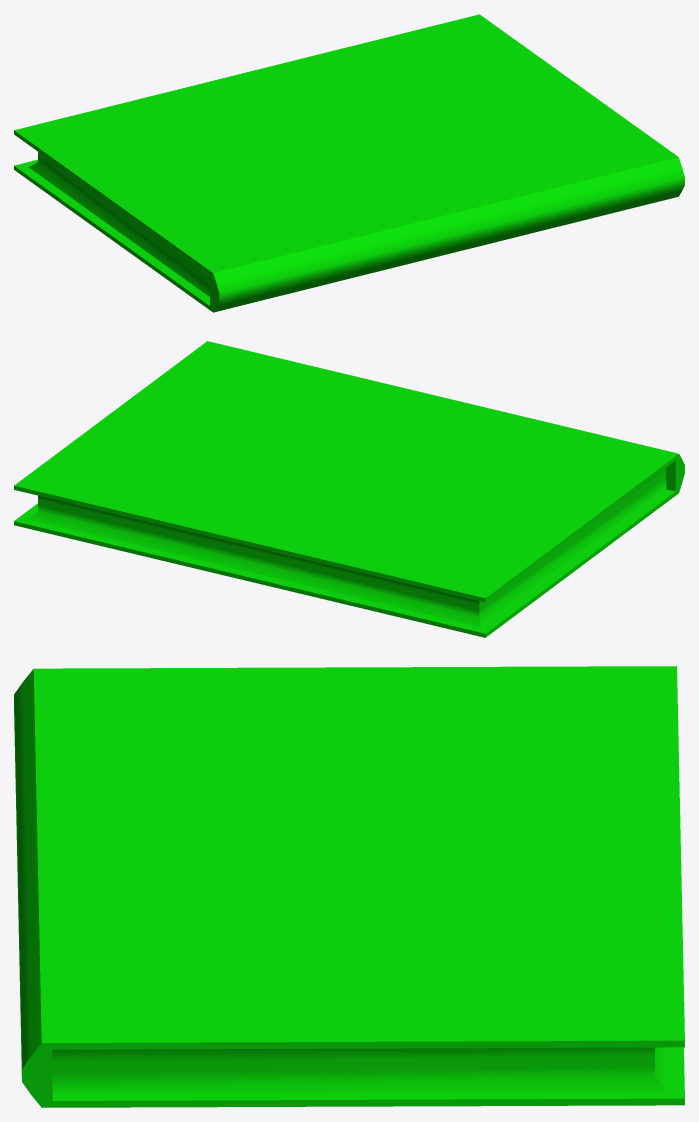
File: Livres_seule_06.fbx
3 views of the same model, one above another, from view 1: azimuth 30°, elevation 25°; view 2: azimuth 150°, elevation 25°; view 3: azimuth 270°, elevation 25° (orthographic). The views are drawn at different scales.
Visible parts, largest first — view 1: Livres_seule5; view 2: Livres_seule5; view 3: Livres_seule5.
Boxes of the visible parts, x1,y1,x2,y2 form: Livres_seule5: (14, 14, 684, 312); Livres_seule5: (14, 341, 684, 637); Livres_seule5: (14, 666, 684, 1107).
Size of the model in its own units: 0.235 by 0.0188 by 0.1767.
